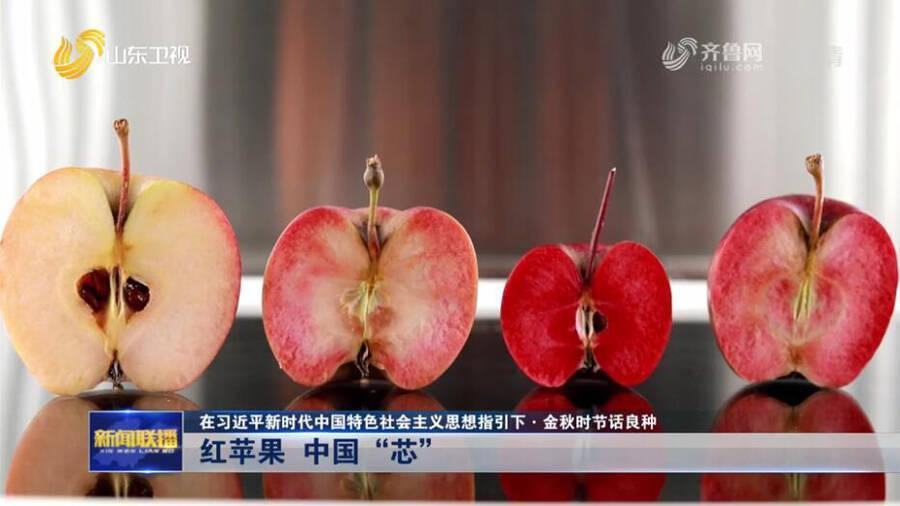apple: (1, 167, 240, 395), (259, 204, 478, 389), (706, 195, 897, 390), (500, 240, 673, 393)
